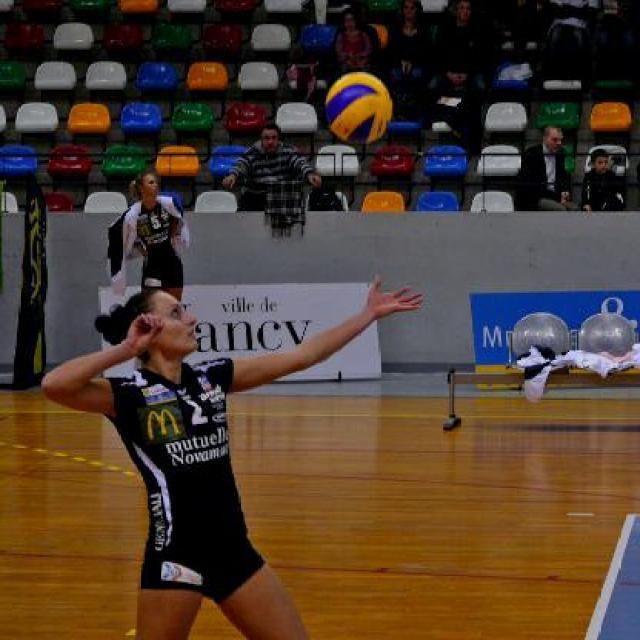volleyball: (324, 72, 392, 145)
